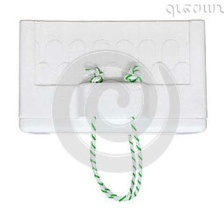foam_box: (10, 15, 211, 205)
